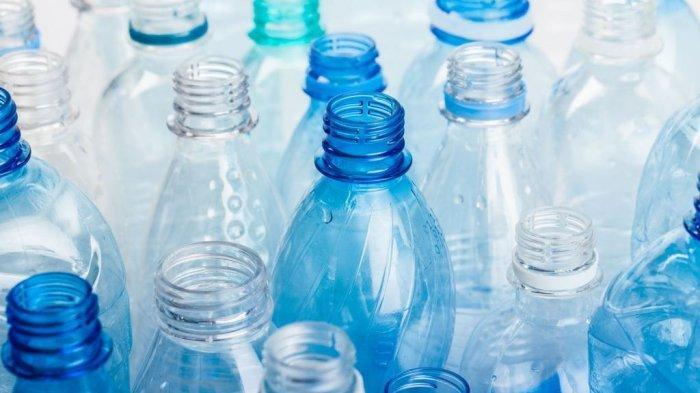plastic: (264, 92, 467, 392), (401, 0, 553, 312), (589, 98, 699, 392), (553, 0, 699, 217), (147, 58, 280, 267), (462, 206, 598, 392), (92, 0, 207, 189), (138, 241, 271, 392), (0, 0, 86, 188), (2, 272, 128, 392), (244, 0, 322, 174), (263, 321, 364, 392)
